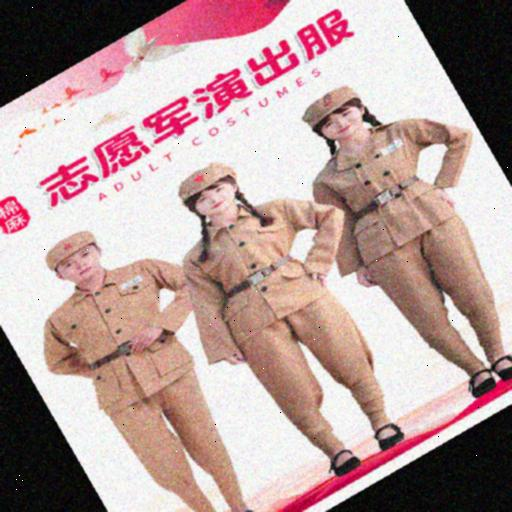north army: (162, 128, 429, 479), (287, 65, 512, 403), (50, 216, 255, 494)
